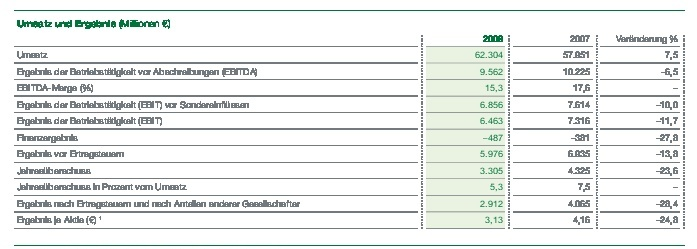table: (0, 0, 697, 249)
